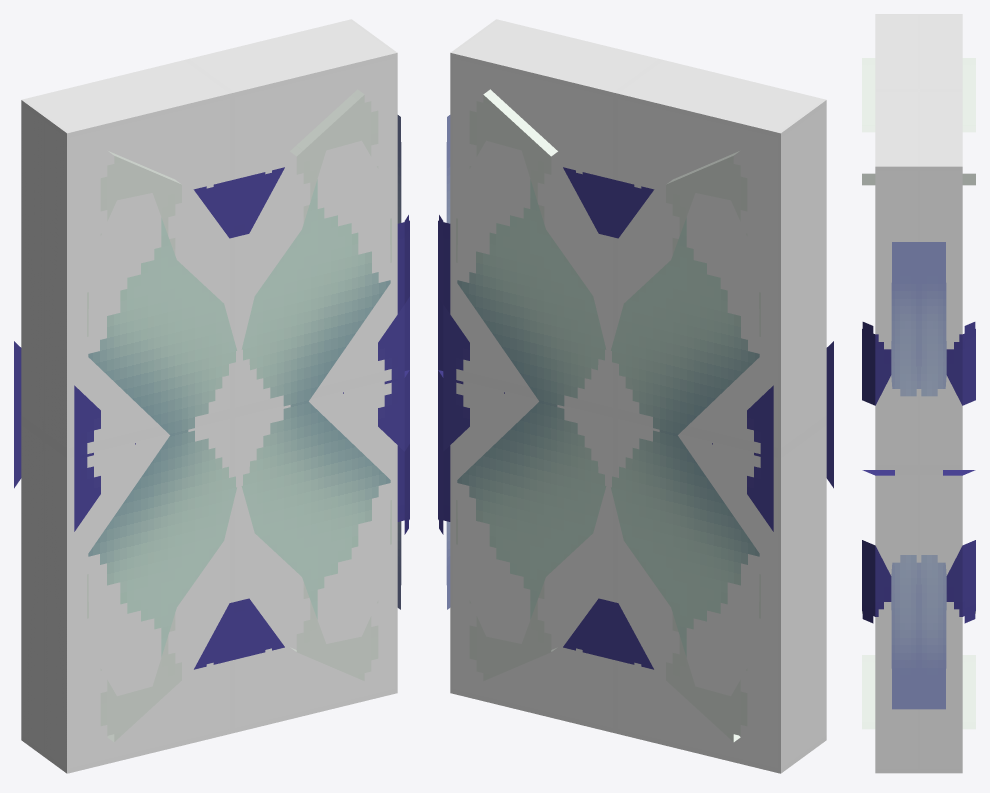
File: whitetome.obj
The picture shows the model from 3 angles, left to right: view 1: azimuth 30°, elevation 25°; view 2: azimuth 150°, elevation 25°; view 3: azimuth 270°, elevation 25°; orthographic projection. The views are drawn at different scales.
Bounding box in the file's own units: 56 × 100 × 17.
